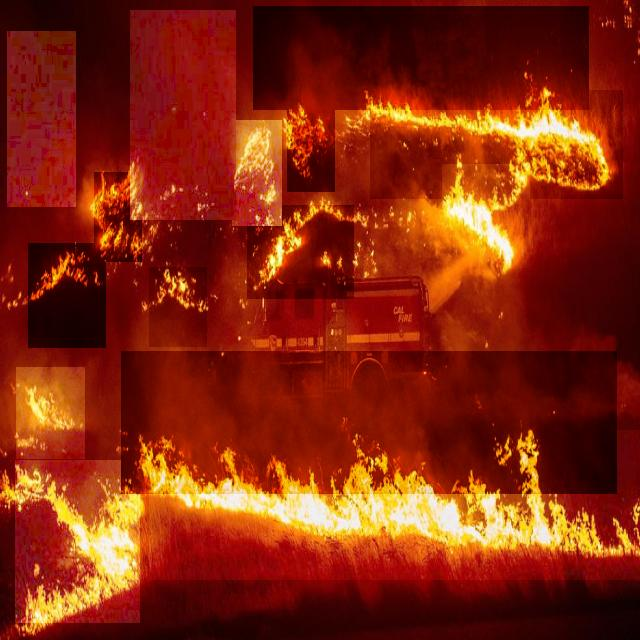Fire: (149, 430, 640, 580), (370, 90, 623, 199), (15, 460, 140, 623), (442, 165, 530, 306), (247, 206, 354, 300), (28, 243, 106, 348), (16, 367, 85, 459), (232, 120, 282, 226), (150, 267, 208, 347), (287, 96, 335, 192), (94, 172, 142, 262)
Smoke: (121, 351, 617, 494), (253, 6, 589, 110), (130, 11, 236, 220), (7, 31, 76, 207)
